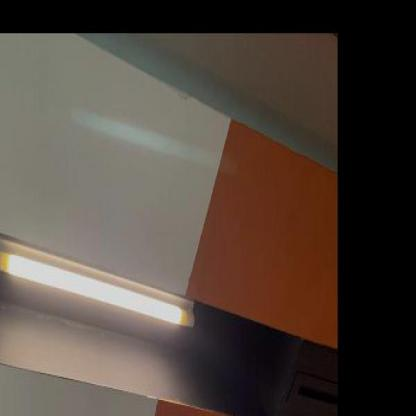light_on: (0, 211, 204, 343)
